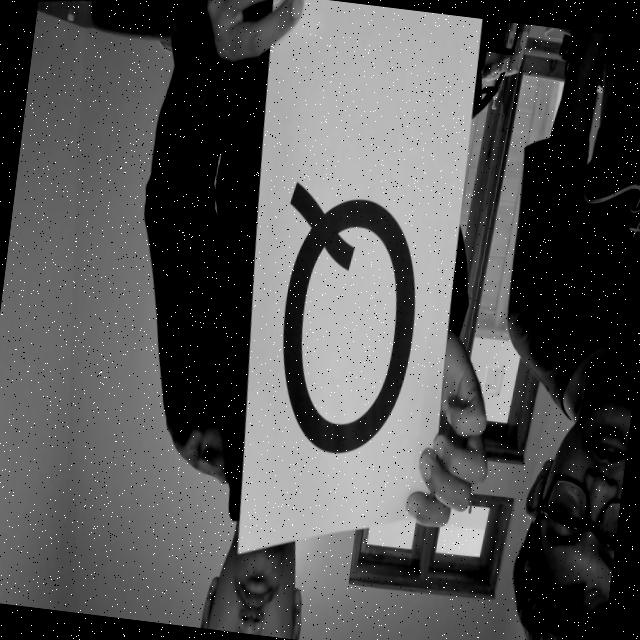q: (247, 132, 442, 472)
